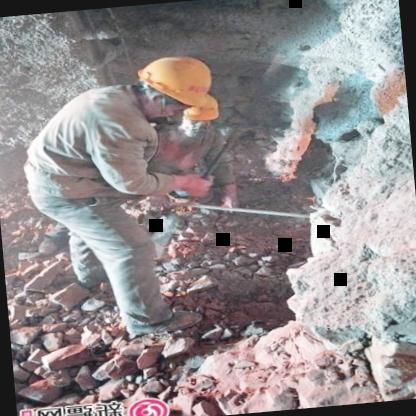helmet: (126, 48, 219, 128), (174, 94, 226, 139)
